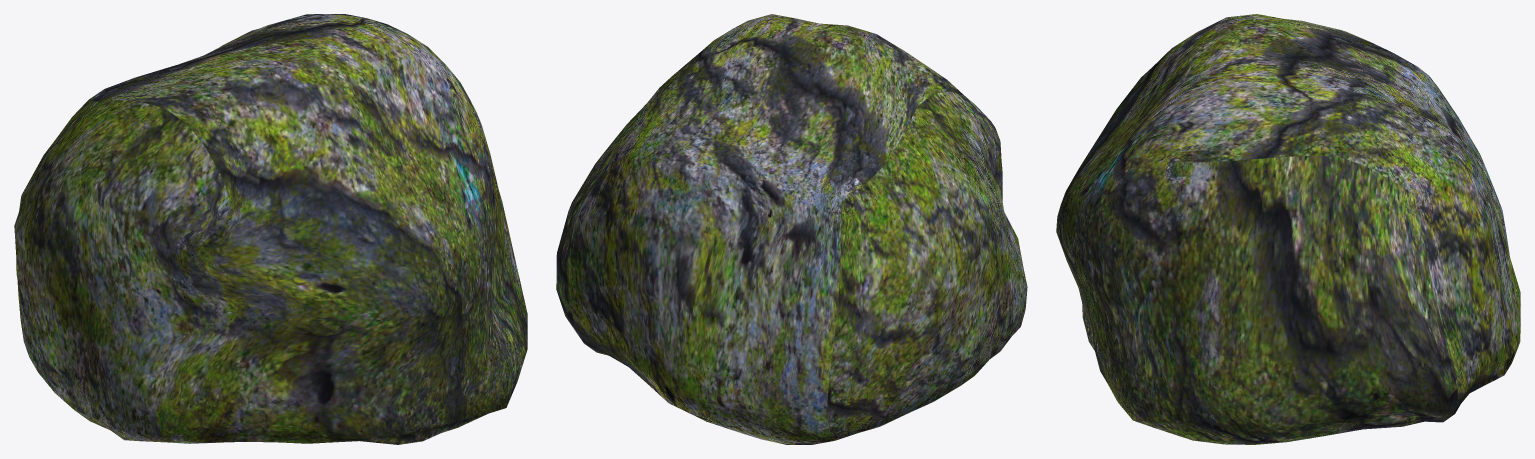
The model's file is Rock01.fbx.
3 views of the same model, side by side, from view 1: azimuth 30°, elevation 25°; view 2: azimuth 150°, elevation 25°; view 3: azimuth 270°, elevation 25° (orthographic). The views are drawn at different scales.
Parts seen in each view (by area): view 1: pCube1; view 2: pCube1; view 3: pCube1.
Boxes of the visible parts, x1,y1,x2,y2 form: pCube1: (14, 14, 527, 444); pCube1: (556, 14, 1027, 444); pCube1: (1056, 14, 1520, 444).
Size of the model in its own units: 7.07 by 5.6 by 6.91.
1 material, 1 textured.
